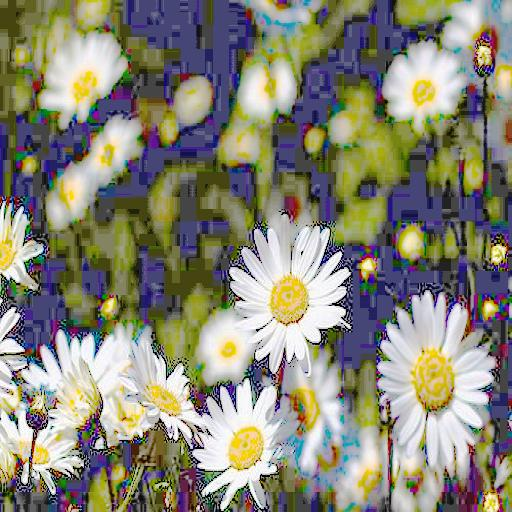daisy: (381, 302, 484, 458), (233, 221, 341, 366), (204, 389, 282, 494), (127, 342, 199, 448), (281, 363, 339, 467), (40, 37, 122, 108), (388, 50, 463, 116), (39, 341, 127, 395), (60, 360, 104, 441), (203, 317, 247, 375)
